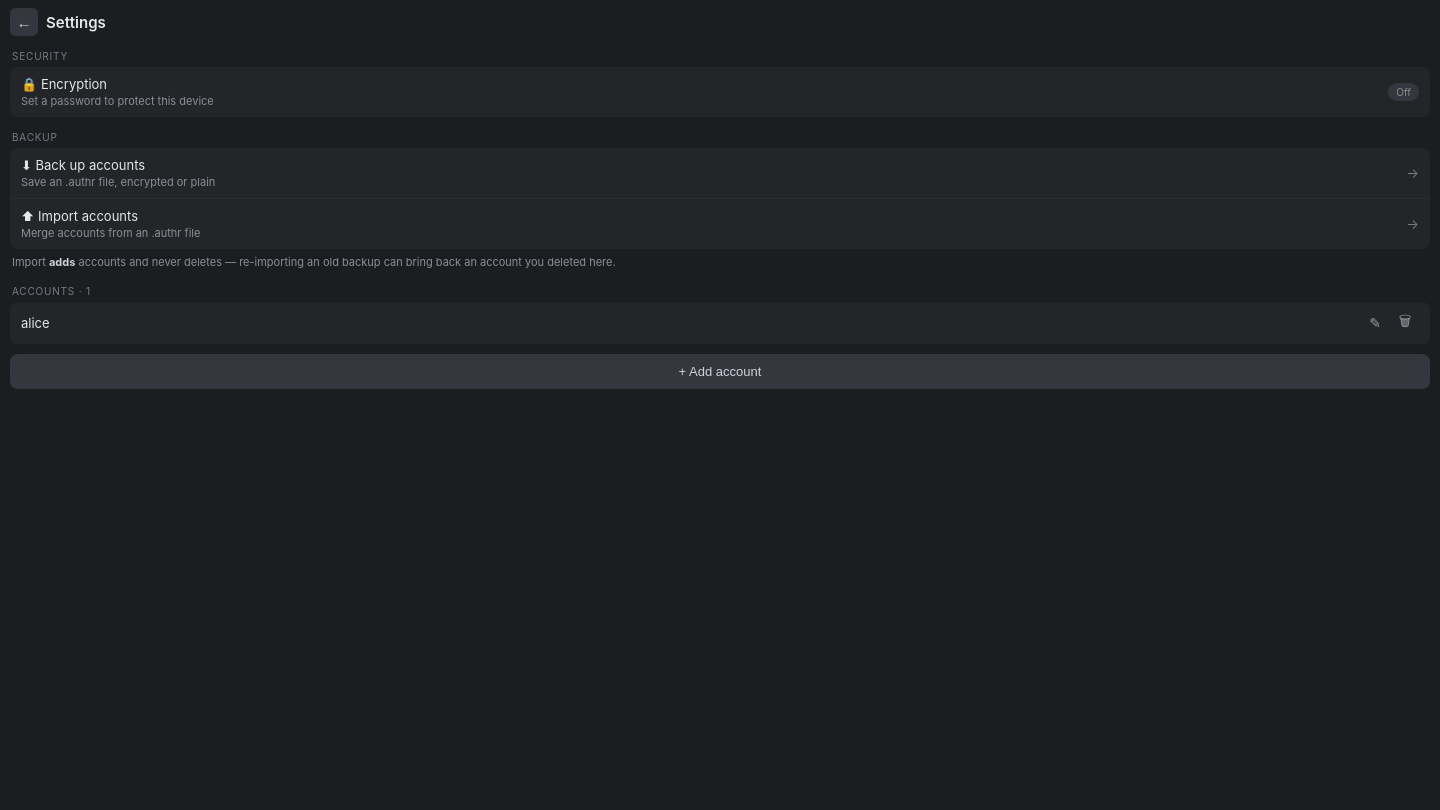
Test: Import accounts (D11) › imports a plaintext backup and shows a count toast
This screenshot has width=1440, height=810.
Expected: the text "alice" is shown, [21,315,50,331]
What coordinates should you click on to do the following:
click the button "⬆ Import accounts Merge accounts from an .authr file →"
I would click on:
 (80, 216)
Its box is [10,198,1430,249].
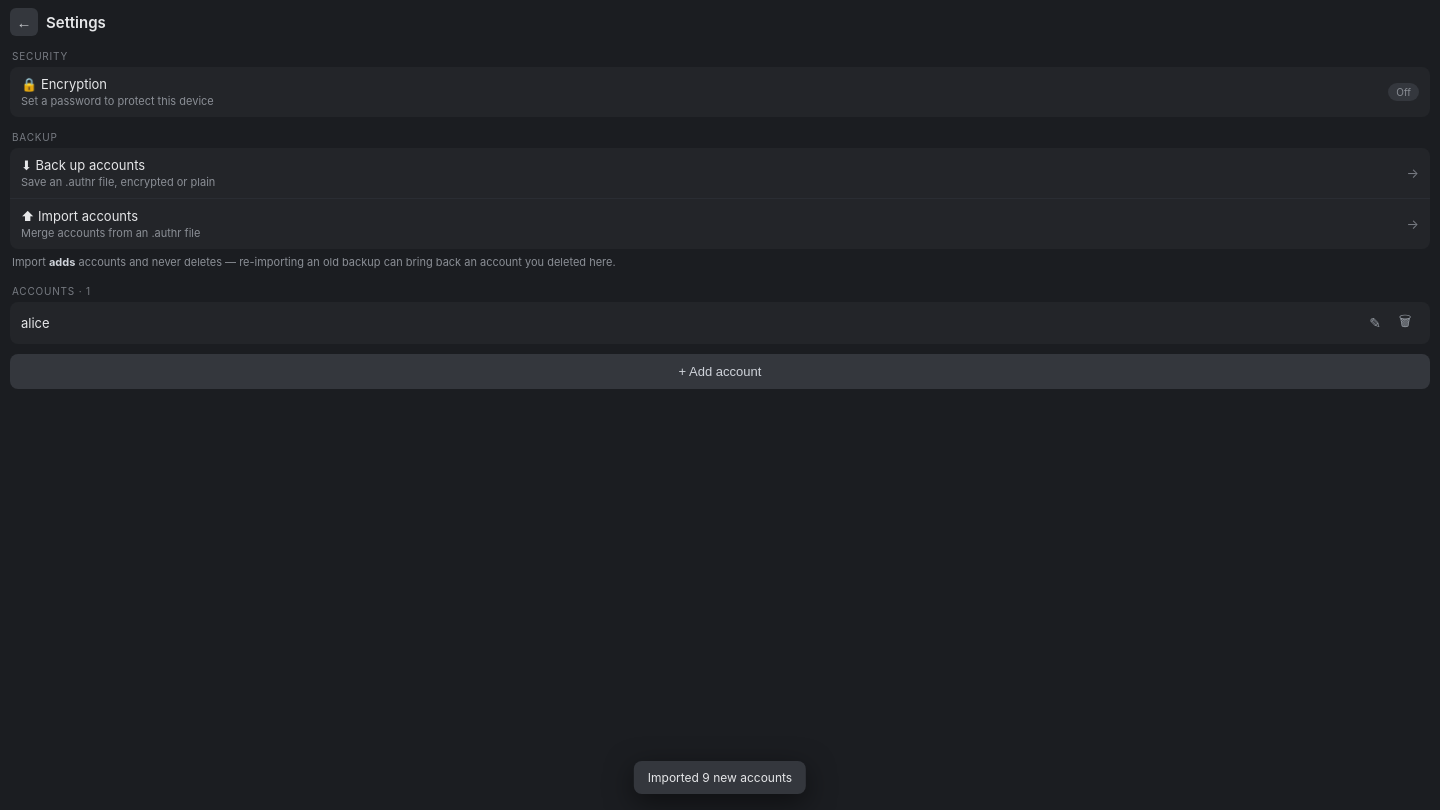
Now the message reads "Imported 9 new accounts", box [648,770,792,785]
